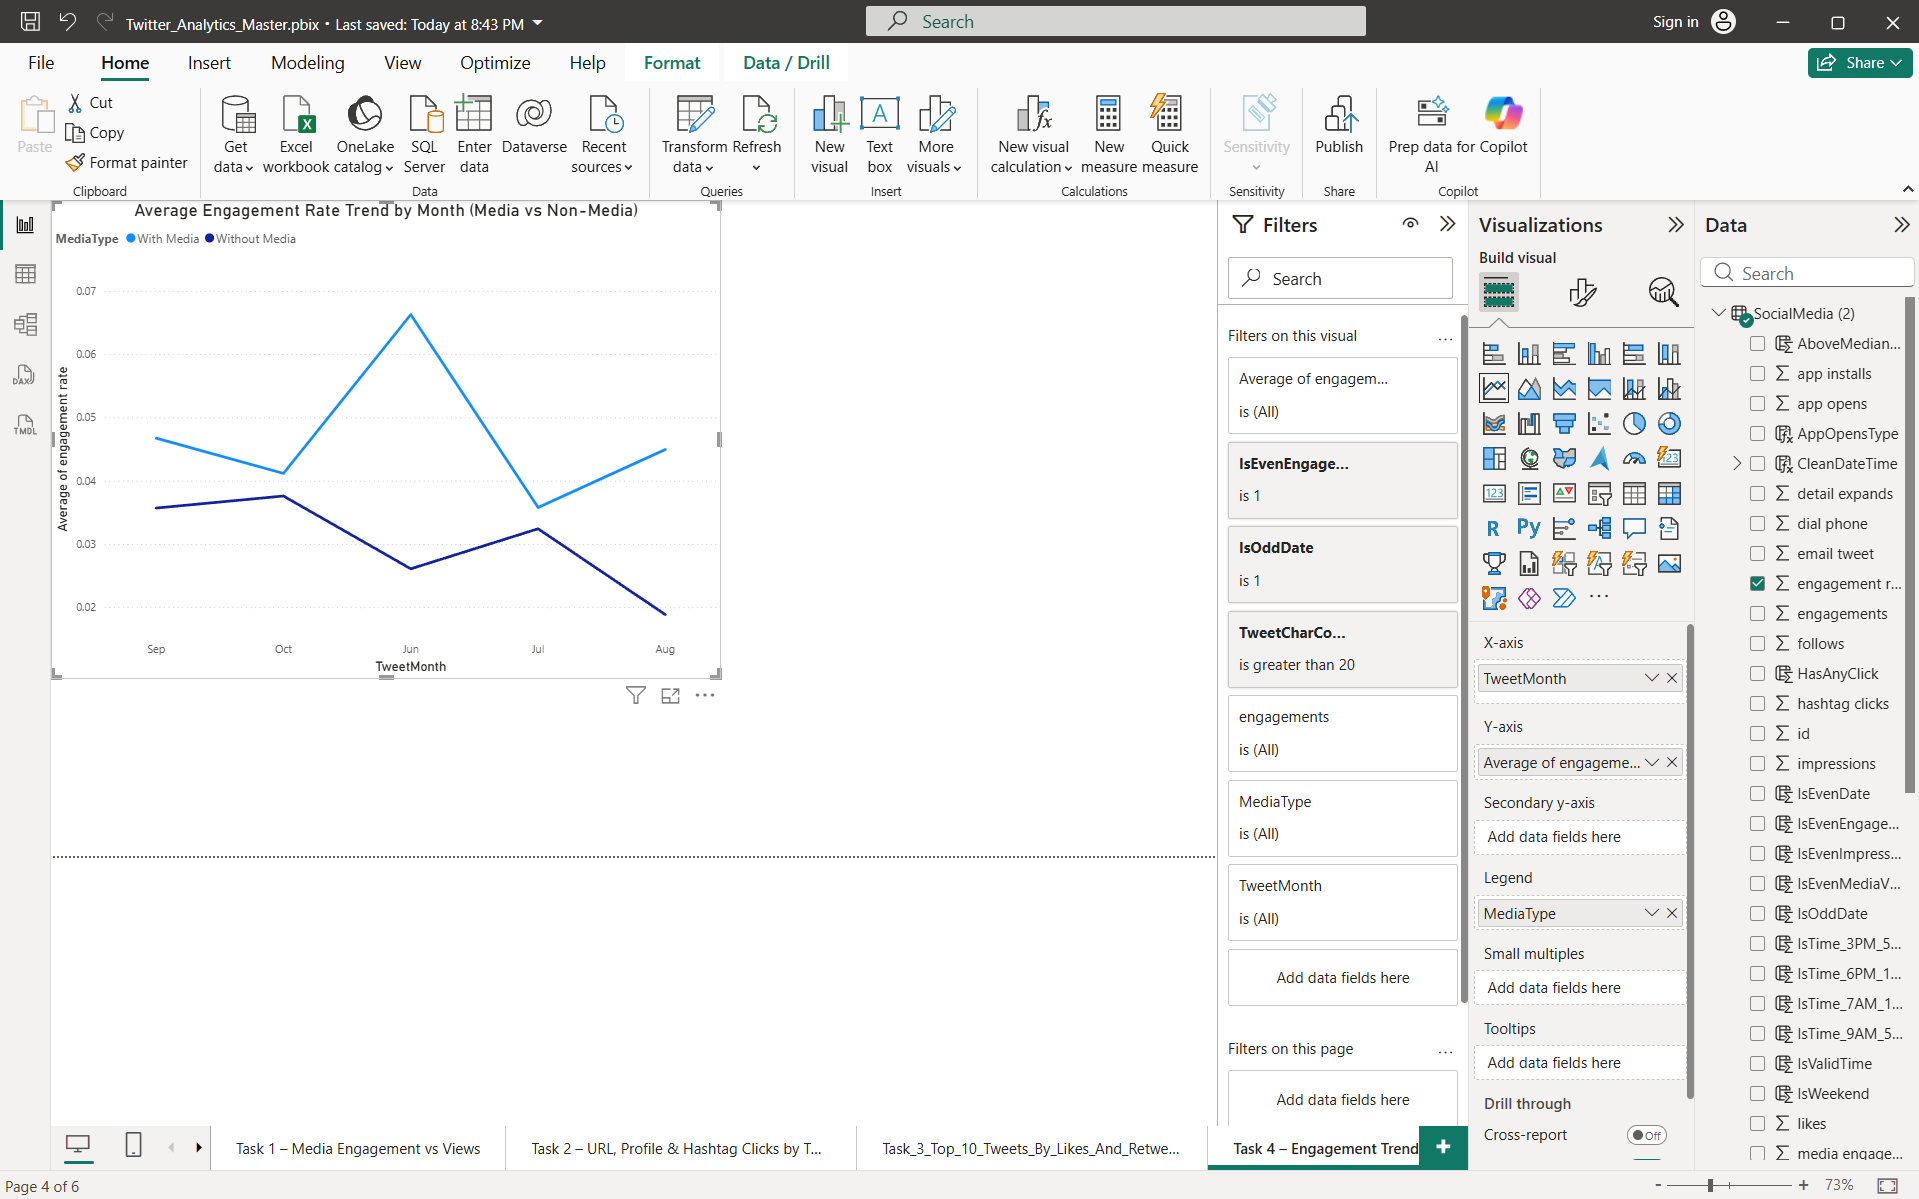

The page's visual inventory and layout, read from the dashboard file:
{"tool":"powerbi","page":{"name":"Task 4 – Engagement Trend","canvas":[1280,720],"ordinal":3},"visuals":[{"type":"lineChart","title":"Average Engagement Rate Trend by Month (Media vs Non-Media)","fields":{"Category":["SocialMedia (2).TweetMonth"],"Y":["Avg(SocialMedia (2).engagement rate)"],"Series":["SocialMedia (2).MediaType"]},"box":[10,0,688,381],"z":0}]}

Visuals, with their boxes on the page's 1280x720 design canvas (x1, y1, x2, y2). These are canvas units, not pixel positions in the 1919x1199 screenshot, which may show the page scaled, cropped or inside an application window:
"Average Engagement Rate Trend by Month (Media vs Non-Media)" lineChart: 10,0,698,381
